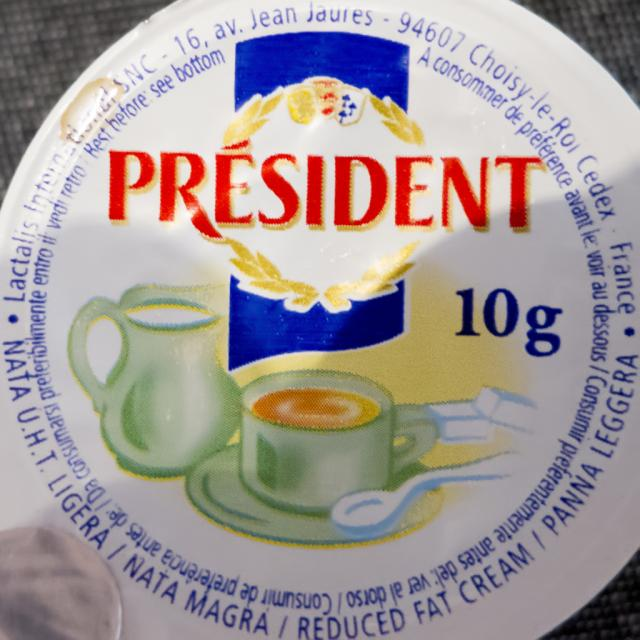Coffee: (244, 373, 414, 511)
